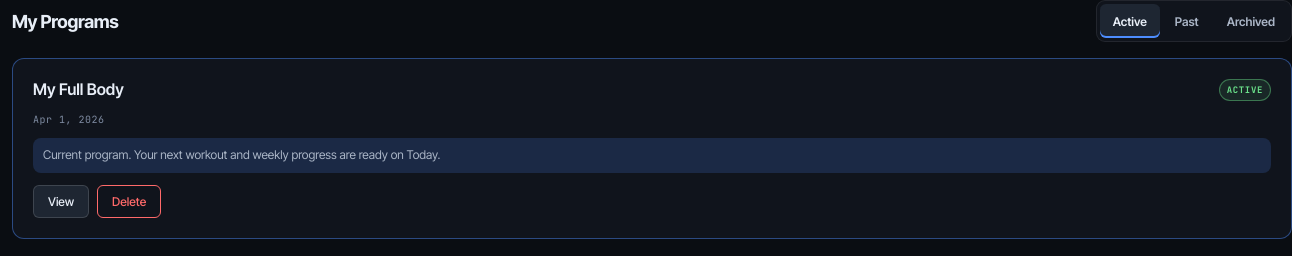
Test case: <MyLibrary> › empty Past tab shows a helpful empty state
Check: the heading "My Full Body" is shown, box [33,79,124,99]
Click the button "Past". click: point(1187, 21)
box: [1162,4,1212,38]
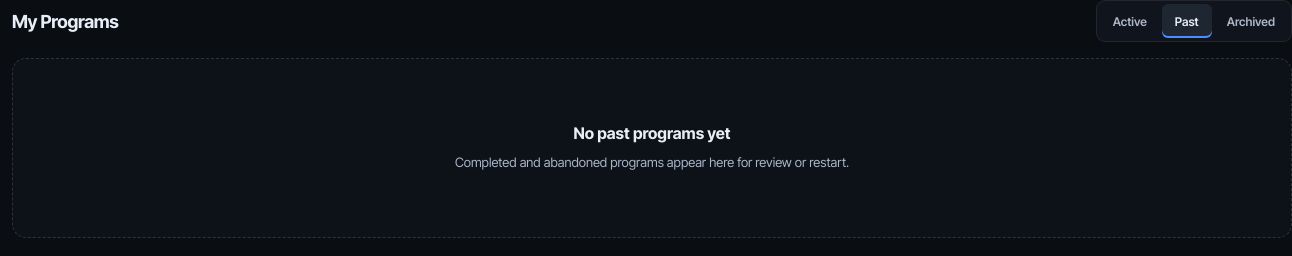
Check: the text "No past programs yet" is shown, box [574,123,731,143]
